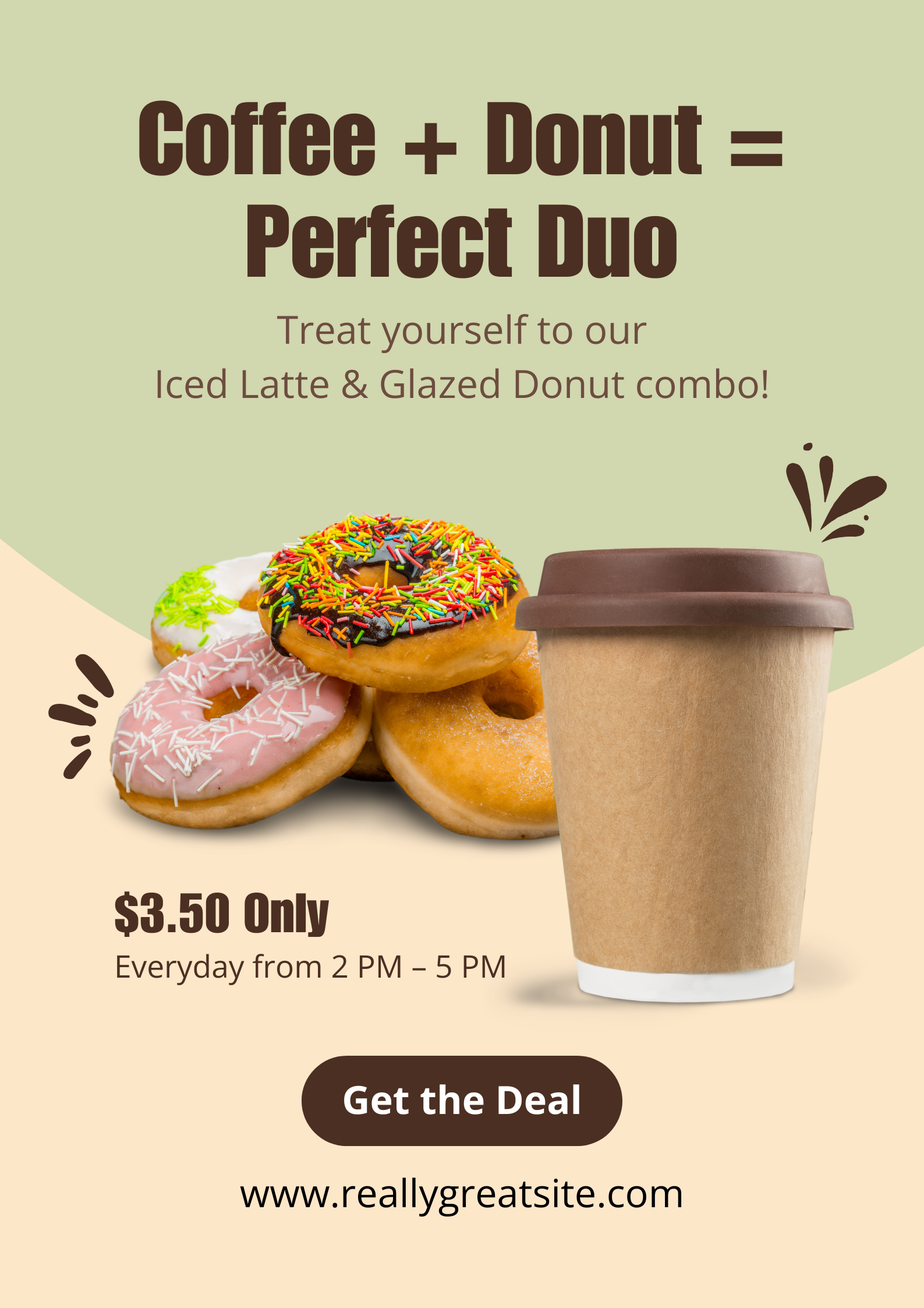CTA: (329, 1073, 584, 1127)
Headline: (125, 88, 803, 290)
Price: (106, 880, 330, 945)
Product: (114, 496, 833, 982)
